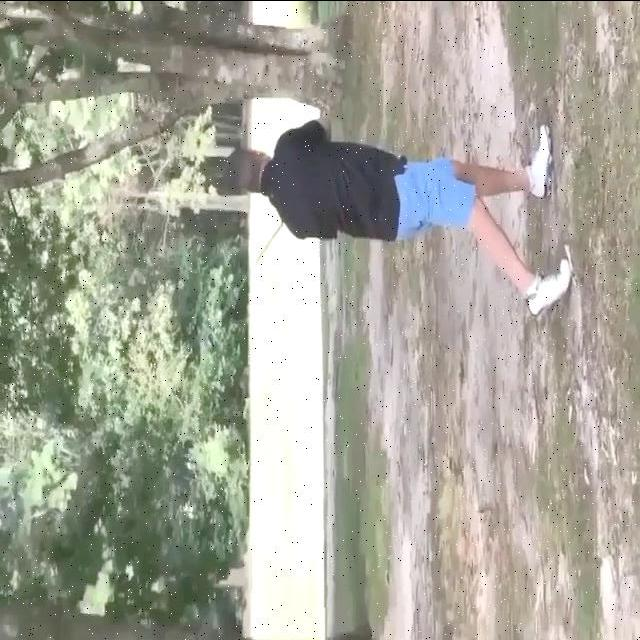ClubHandle: (206, 223, 284, 352)
ClubHead: (205, 334, 213, 352)
